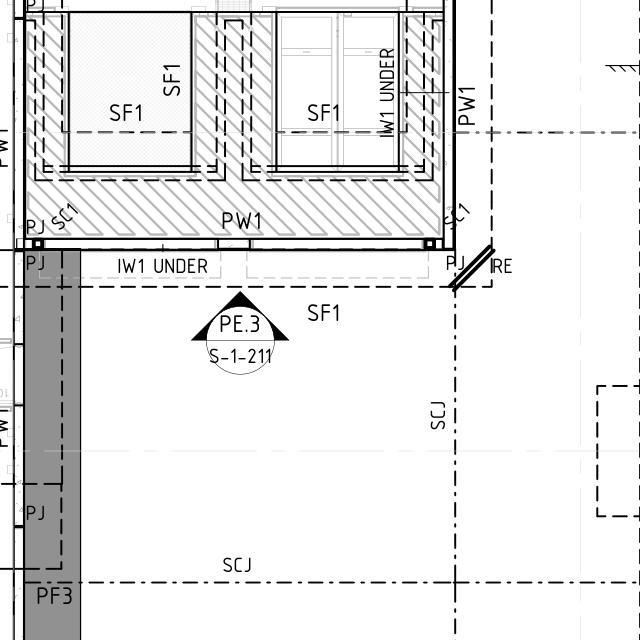IW1: (105, 250, 151, 283), (369, 110, 403, 144)
PF3: (34, 575, 74, 612)
PJ: (11, 492, 56, 528), (16, 250, 53, 277), (18, 210, 49, 241)
PW1: (456, 81, 489, 135), (213, 208, 265, 237)
SC1: (49, 199, 87, 237), (442, 203, 469, 226)
SF1: (147, 52, 191, 104), (298, 294, 347, 326), (98, 104, 151, 132), (305, 97, 342, 130)
